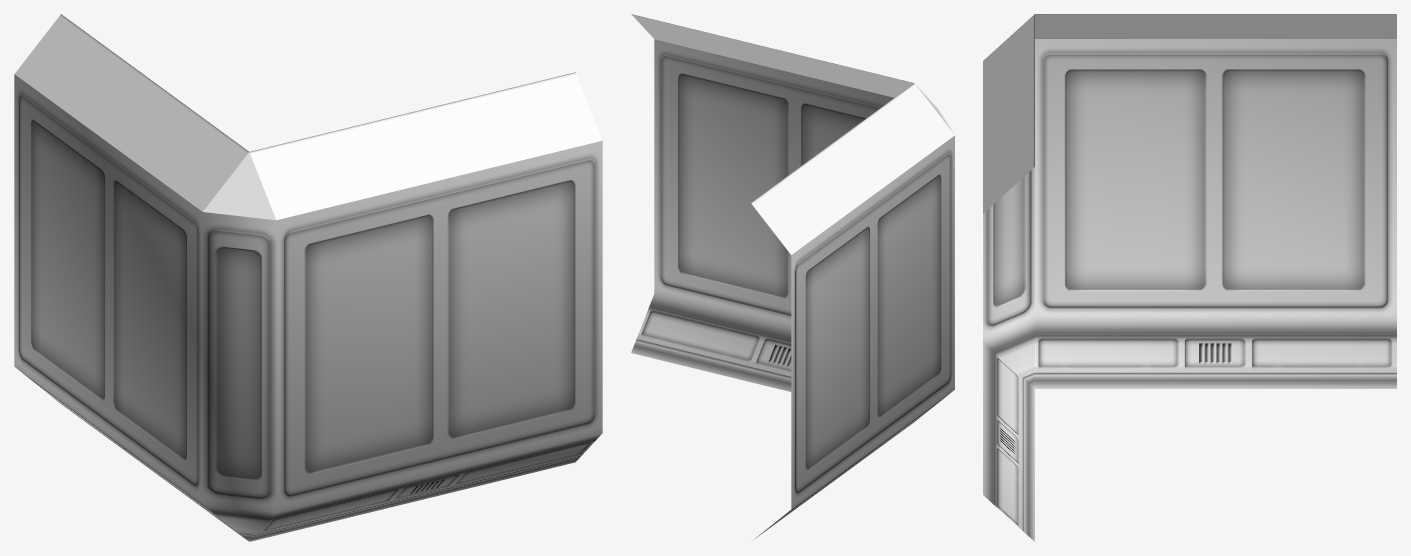
The model's file is Sect_Corner_1_Generic.FBX.
3 views of the same model, side by side, from view 1: azimuth 30°, elevation 25°; view 2: azimuth 150°, elevation 25°; view 3: azimuth 270°, elevation 25° (orthographic). The views are drawn at different scales.
Parts seen in each view (by area): view 1: Corner_1_Generic; view 2: Corner_1_Generic; view 3: Corner_1_Generic.
Part boxes in pixels (<box>): Corner_1_Generic: <box>14,14,602,541</box>; Corner_1_Generic: <box>631,14,954,539</box>; Corner_1_Generic: <box>983,14,1396,541</box>.
Size of the model in its own units: 4 by 4 by 4.
